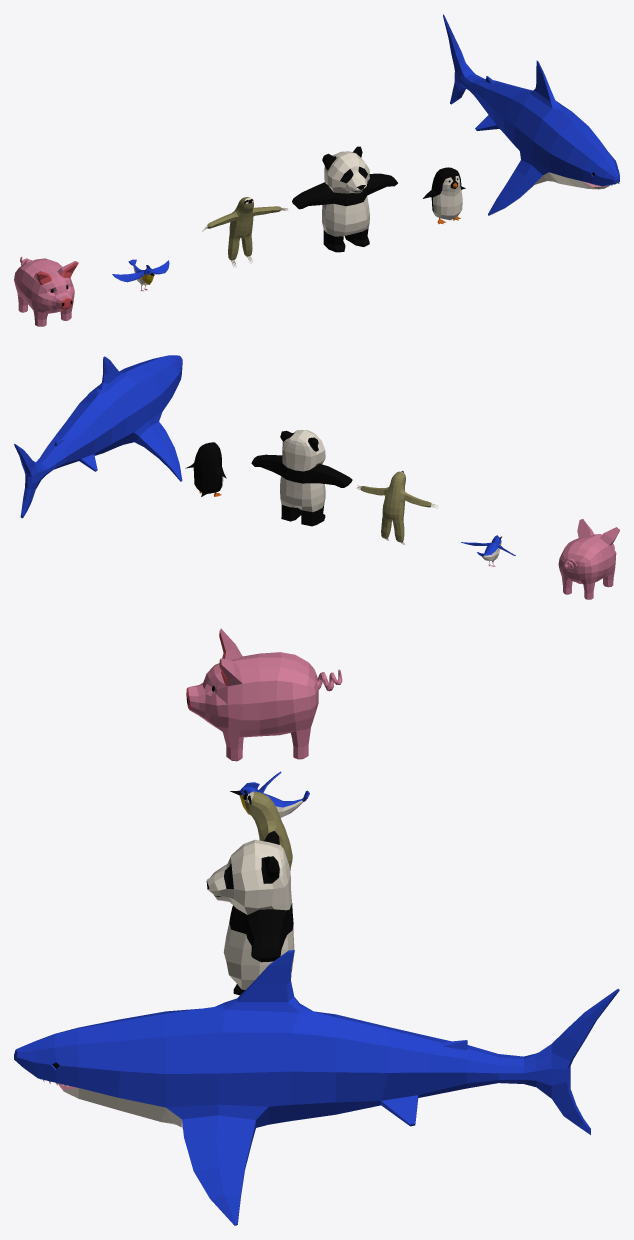
File: OrigamisPack.obj
3 views of the same model, one above another, from view 1: azimuth 30°, elevation 25°; view 2: azimuth 150°, elevation 25°; view 3: azimuth 270°, elevation 25° (orthographic). The views are drawn at different scales.
Visible parts, largest first — view 1: Cube.003_Cube.001, Plane, Cube_Cube.002, Cube.013, Cube.002_Cube, Cube.001_Cube.004; view 2: Cube.003_Cube.001, Plane, Cube_Cube.002, Cube.013, Cube.002_Cube, Cube.001_Cube.004; view 3: Cube.003_Cube.001, Cube_Cube.002, Plane, Cube.013, Cube.001_Cube.004.
Part boxes in pixels (box(x1,y1,x2,y2)): Cube.003_Cube.001: box(443, 14, 619, 215); Plane: box(292, 146, 397, 252); Cube_Cube.002: box(14, 256, 78, 326); Cube.013: box(207, 197, 280, 260); Cube.002_Cube: box(423, 167, 465, 224); Cube.001_Cube.004: box(112, 259, 169, 291); Cube.003_Cube.001: box(14, 355, 182, 518); Plane: box(251, 430, 352, 526); Cube_Cube.002: box(558, 519, 619, 599); Cube.013: box(360, 471, 431, 542); Cube.002_Cube: box(185, 442, 226, 496); Cube.001_Cube.004: box(461, 535, 515, 566); Cube.003_Cube.001: box(14, 950, 619, 1225); Cube_Cube.002: box(186, 628, 342, 761); Plane: box(206, 831, 294, 995); Cube.013: box(243, 791, 292, 870); Cube.001_Cube.004: box(230, 771, 309, 817).
Size of the model in its own units: 29.34 by 6.1 by 15.12.
